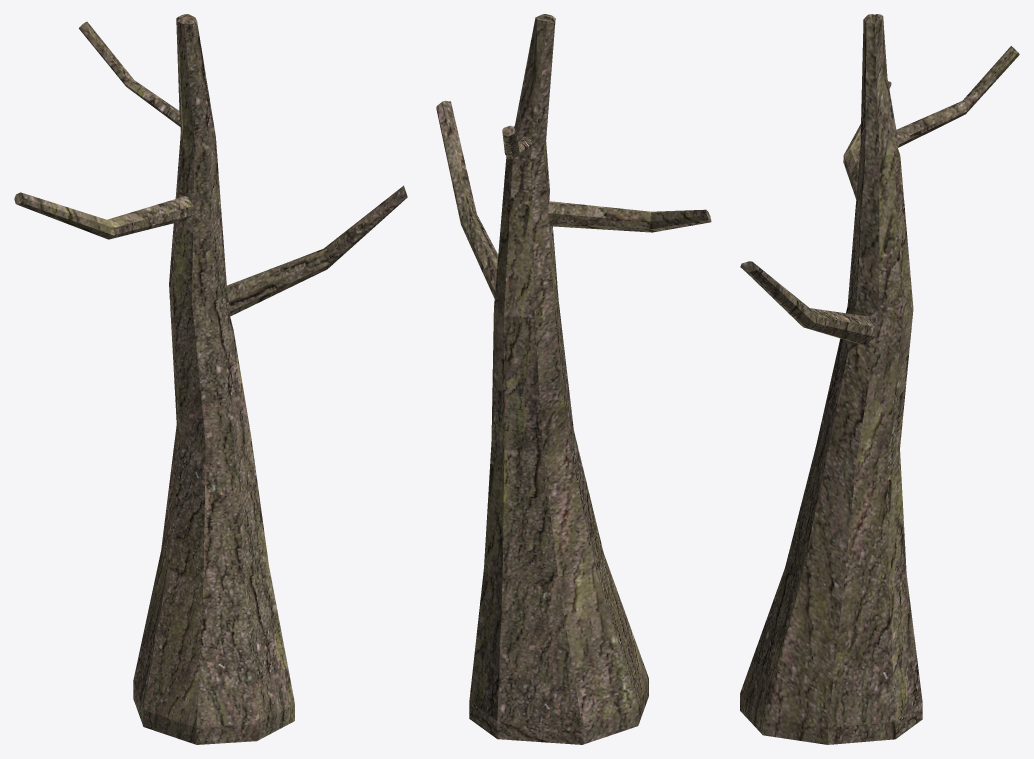
File: Tree.fbx
3 views of the same model, side by side, from view 1: azimuth 30°, elevation 25°; view 2: azimuth 150°, elevation 25°; view 3: azimuth 270°, elevation 25° (orthographic). The views are drawn at different scales.
Visible parts, largest first — view 1: Tree; view 2: Tree; view 3: Tree.
Boxes of the visible parts, left/top/right/bottom form: Tree: left=14, top=14, right=407, bottom=744; Tree: left=436, top=14, right=711, bottom=744; Tree: left=740, top=14, right=1019, bottom=744.
Bounding box in the file's own units: 1074 × 2132 × 782.
